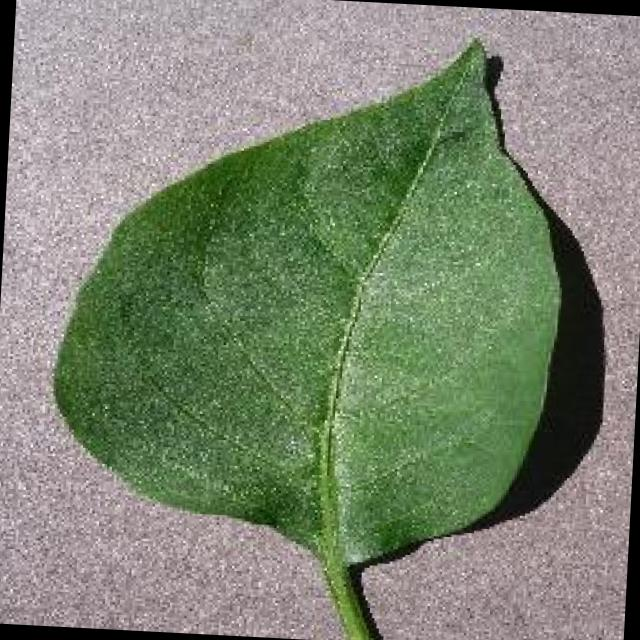Chilli_Healthy: (36, 14, 577, 640)
